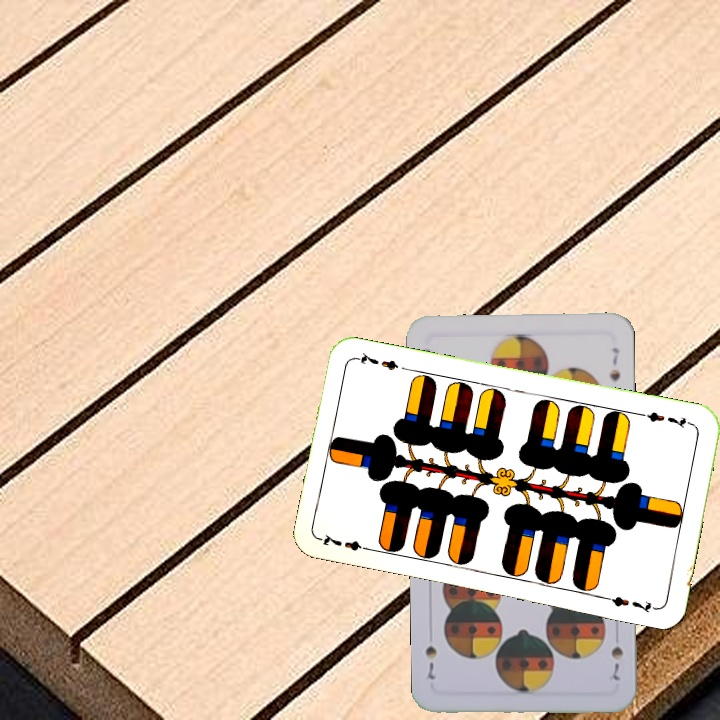E7: (317, 530, 376, 554), (637, 407, 695, 431)
S7: (607, 642, 626, 683)
